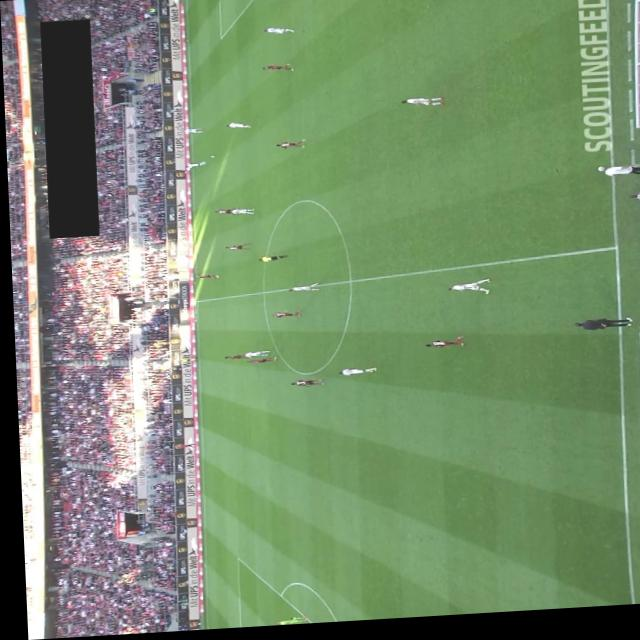goalkeeper: (270, 618, 302, 627)
player: (444, 283, 488, 301), (420, 341, 463, 354), (399, 101, 444, 113), (334, 370, 373, 380), (285, 285, 318, 296), (262, 28, 295, 38), (261, 65, 293, 75), (287, 381, 321, 390), (274, 142, 305, 151), (268, 313, 299, 321), (222, 244, 248, 253), (243, 359, 273, 366), (226, 209, 252, 217), (238, 352, 267, 359), (224, 124, 250, 131), (220, 356, 246, 362), (212, 209, 234, 216), (185, 163, 206, 170), (182, 129, 203, 135), (195, 275, 217, 280)
referee: (255, 257, 286, 265), (175, 358, 196, 363)
